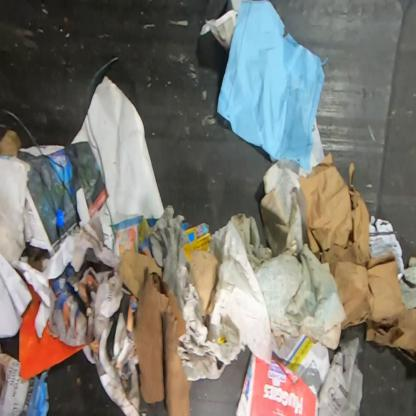cardboard: (298, 152, 416, 356), (18, 283, 86, 380), (188, 250, 220, 331), (369, 215, 405, 281), (117, 249, 163, 298)
soft_plastic: (318, 335, 364, 416)
